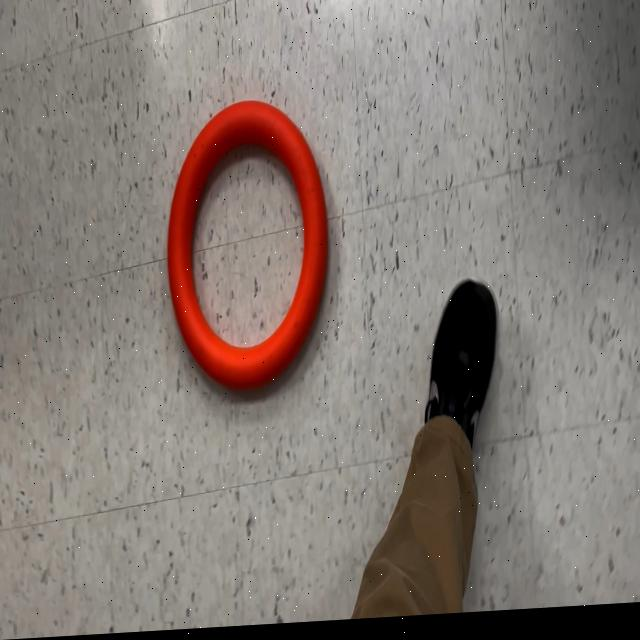note: (166, 97, 330, 405)
